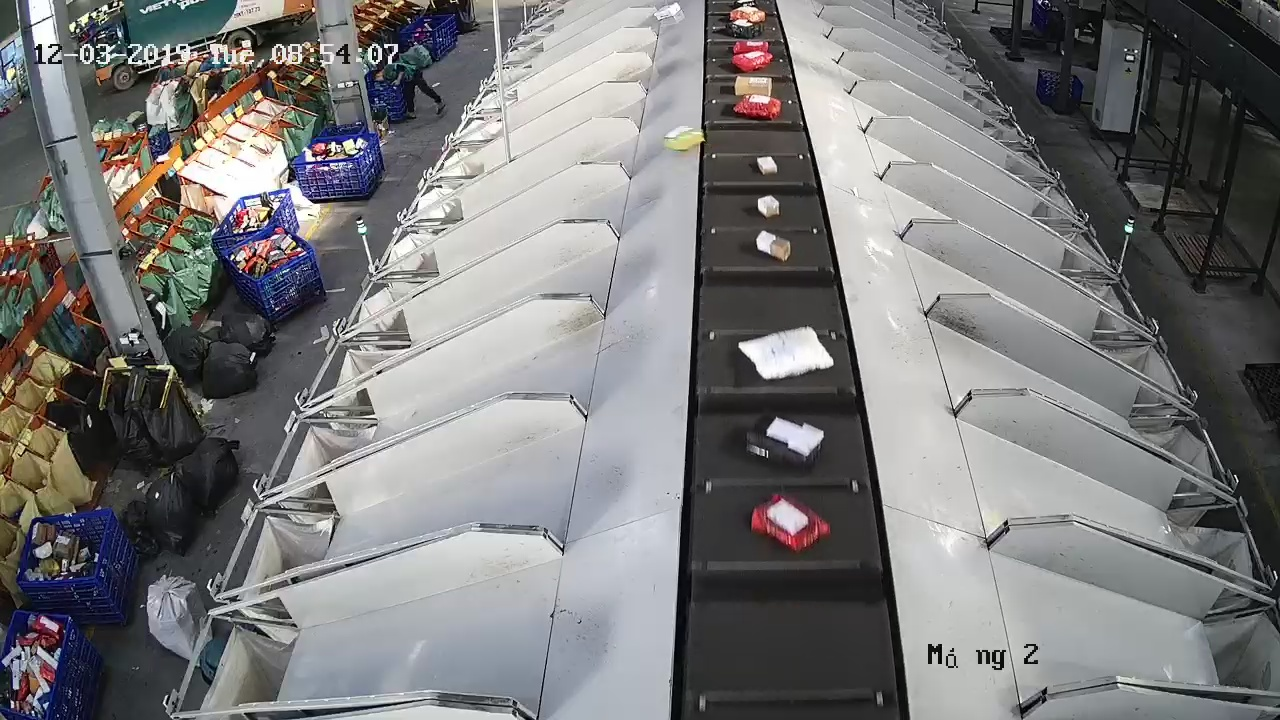parcel: (736, 324, 836, 382), (748, 491, 833, 556), (743, 413, 826, 473), (754, 228, 793, 264), (662, 124, 706, 154), (756, 193, 782, 219), (755, 154, 779, 177)
